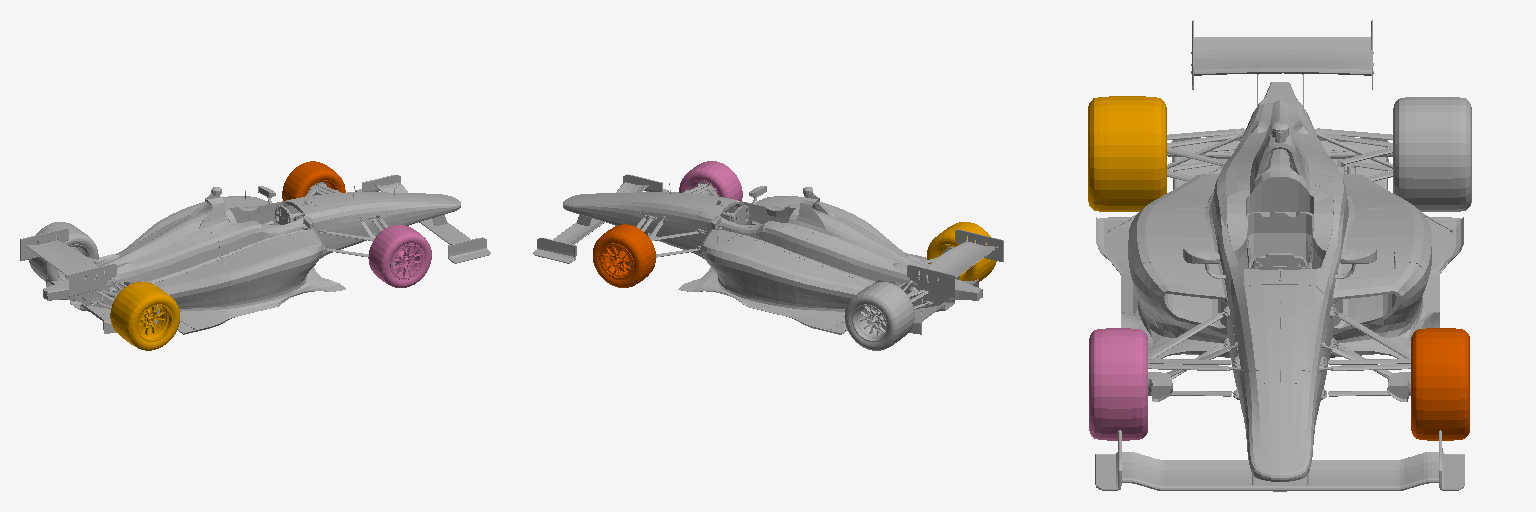
URDF robot description (AV 21):
<?xml version="1.0"?>
<robot xmlns:xacro="http://ros.org/wiki/xacro" name="AV 21">
  <link name="base_link" />

  <link name="base_footprint" />
  <link name="nav_base" />
  <link name="cg" />
  <link name="rear_axle_middle" />
  <link name="rear_axle_middle_ground" />
  <link name="front_axle_middle" />
  <link name="model">
    <visual>
      <geometry>
        <mesh filename="package://racing_lmpc_launch/config/urdf/iac_car/visual/il15_body.stl" scale="0.01 0.01 0.01" />
      </geometry>
    </visual>
  </link>

  <link name="gps_top" />
  <link name="gps_antenna_front" />
  <link name="gps_antenna_rear" />
  <link name="gps_antenna_left" />
  <link name="gps_antenna_right" />

  <link name="gps_bottom" />
  <link name="imu_top" />
  <link name="imu_bottom" />
  <link name="vectornav" />
  <link name="imu_vectornav" />

  <link name="luminar_front" />
  <link name="luminar_left" />
  <link name="luminar_right" />

  <link name="camera_front_left" />
  <link name="camera_front_right" />
  <link name="camera_rear_left" />
  <link name="camera_rear_right" />
  <link name="camera_front_left_center" />
  <link name="camera_front_right_center" />

  <link name="vimba_front_left" />
  <link name="vimba_front_right" />
  <link name="vimba_rear_left" />
  <link name="vimba_rear_right" />
  <link name="vimba_front_left_center" />
  <link name="vimba_front_right_center" />

  <link name="radar_front" />
  <link name="radar_port" />
  <link name="radar_starboard" />
  <link name="radar_rear" />

  <link name="tyre_fl">
    <visual>
      <geometry>
        <mesh filename="package://racing_lmpc_launch/config/urdf/iac_car/visual/il15_tyre_fl.stl" scale="0.01 0.01 0.01" />
      </geometry>
      <origin xyz="0 0 0" rpy="0 0 0" />
    </visual>
  </link>
  <link name="tyre_fr">
    <visual>
      <geometry>
        <mesh filename="package://racing_lmpc_launch/config/urdf/iac_car/visual/il15_tyre_fr.stl" scale="0.01 0.01 0.01" />
      </geometry>
      <origin xyz="0 0 0" rpy="0 0 0" />
    </visual>
  </link>
  <link name="tyre_rl">
    <visual>
      <geometry>
        <mesh filename="package://racing_lmpc_launch/config/urdf/iac_car/visual/il15_tyre_rl.stl" scale="0.01 0.01 0.01" />
      </geometry>
      <origin xyz="0 0 0" rpy="0 0 0" />
    </visual>
  </link>
  <link name="tyre_rr">
    <visual>
      <geometry>
        <mesh filename="package://racing_lmpc_launch/config/urdf/iac_car/visual/il15_tyre_rr.stl" scale="0.01 0.01 0.01" />
      </geometry>
      <origin xyz="0 0 0" rpy="0 0 0" />
    </visual>
  </link>

  <link name="tyre_fl_rotate" />
  <link name="tyre_fr_rotate" />
  <link name="tyre_rl_rotate" />
  <link name="tyre_rr_rotate" />

  <joint name="rear_axle_middle_ground_joint" type="fixed">
    <parent link="base_footprint" />
    <child link="rear_axle_middle_ground" />
    <origin xyz="0.0 0.0 0.0" />
  </joint>

  <joint name="wheel_base" type="fixed">
    <parent link="base_link" />
    <child link="front_axle_middle" />
    <origin xyz="2.9718 0.0 0.0" />
  </joint>

  <joint name="rear_axle_middle_joint" type="fixed">
    <parent link="base_link" />
    <child link="rear_axle_middle" />
    <origin xyz="0 0 0" />
  </joint>

  <joint name="cg_joint" type="fixed">
    <parent link="base_link" />
    <child link="cg" />
    <origin xyz="1.248 0.0 0.077" />
  </joint>

  <joint name="model_joint" type="fixed">
    <parent link="base_link" />
    <child link="model" />
    <origin xyz="1.725 0.0 -0.31" rpy="1.5708 0.0 1.5708" />
  </joint>

  <joint name="nav_base_joint" type="fixed">
    <parent link="cg" />
    <child link="nav_base" />
    <origin xyz="0 0 0" />
  </joint>

  <joint name="base_footprint_joint" type="fixed">
    <parent link="base_link" />
    <child link="base_footprint" />
    <origin xyz="0 0 -0.09525" />
  </joint>

  <joint name="gps_top_joint" type="fixed">
    <parent link="base_link" />
    <child link="gps_top" />
    <origin xyz="1.605 0.075 -0.074" />
  </joint>

  <joint name="gps_antenna_front_joint" type="fixed">
    <parent link="gps_bottom" />
    <child link="gps_antenna_front" />
    <origin xyz="1.53982 0.07525 0.47876" />
  </joint>

  <joint name="gps_antenna_rear_joint" type="fixed">
    <parent link="gps_bottom" />
    <child link="gps_antenna_rear" />
    <origin xyz="-0.36559 0.07525 1.02668" />
  </joint>

  <joint name="gps_antenna_left_joint" type="fixed">
    <parent link="gps_top" />
    <child link="gps_antenna_left" />
    <origin xyz="0.41919 0.42225 0.45940" />
  </joint>

  <joint name="gps_antenna_right_joint" type="fixed">
    <parent link="gps_top" />
    <child link="gps_antenna_right" />
    <origin xyz="0.41919 -0.57265 0.45940" />
  </joint>


  <joint name="vectornav_joint" type="fixed">
    <parent link="base_link" />
    <child link="vectornav" />
    <origin xyz="1.765 0.0 0.035" />
  </joint>
  
  <joint name="imu_vectornav_joint" type="fixed">
    <parent link="base_link" />
    <child link="imu_vectornav" />
    <origin xyz="1.765 0.0 0.035" />
  </joint>

  <joint name="gps_bottom_joint" type="fixed">
    <parent link="base_link" />
    <child link="gps_bottom" />
    <origin xyz="1.605 -0.075 -0.074" />
  </joint>

  <joint name="imu_bottom_joint" type="fixed">
    <parent link="base_link" />
    <child link="imu_bottom" />
    <origin xyz="1.605 -0.075 -0.074" />
  </joint>

  <joint name="imu_top_joint" type="fixed">
    <parent link="base_link" />
    <child link="imu_top" />
    <origin xyz="1.605 0.075 -0.074" />
  </joint>

  <joint name="luminar_front_joint" type="fixed">
    <parent link="base_link" />
    <child link="luminar_front" />
    <!-- y pointing up-->
    <!-- <origin xyz="2.242 0 0.448" rpy="1.57079633 0.0 1.57079633"/> -->
    <!-- y pointing down -->
    <!-- <origin xyz="2.242 0 0.448" rpy="-1.57079633 0.0 -1.57079633"/> -->
    <!-- original x-forward convention -->
    <origin xyz="2.242 0 0.448" rpy="0 0.0174533 0" />
  </joint>

  <joint name="luminar_left_joint" type="fixed">
    <parent link="base_link" />
    <child link="luminar_left" />
    <!-- y pointing up-->
    <!-- <origin xyz="1.549 0.267 0.543" rpy="1.57079633 0.0 -2.61801928" /> -->
    <!-- y pointing down-->
    <!-- <origin xyz="1.549 0.267 0.543" rpy="-1.57079633 0.0 .523573371" /> -->
    <!-- original x-forward convention -->
    <origin xyz="1.549 0.267 0.543" rpy="0 0 2.0943951024" />
  </joint>

  <joint name="luminar_right_joint" type="fixed">
    <parent link="base_link" />
    <child link="luminar_right" />
    <!-- y pointing up-->
    <!-- <origin xyz="1.549 -0.267 0.543" rpy="1.57079633 0.0 -0.52357337" /> -->
    <!-- y pointing down-->
    <!-- <origin xyz="1.549 -0.267 0.543" rpy="-1.57079633 0.0 2.61801928" /> -->
    <!-- original x-forward convention -->
    <origin xyz="1.549 -0.267 0.543" rpy="-0.00872665 -0.0174533 -2.0943951024" />
  </joint>

  <joint name="camera_front_left_joint" type="fixed">
    <parent link="base_link" />
    <child link="camera_front_left" />
    <origin xyz="2.184 0.171 0.422" rpy="0 0 0.9599310886" />
  </joint>

  <joint name="camera_front_right_joint" type="fixed">
    <parent link="base_link" />
    <child link="camera_front_right" />
    <origin xyz="2.184 -0.171 0.422" rpy="0 0 -0.9599310886" />
  </joint>

  <joint name="camera_rear_left_joint" type="fixed">
    <parent link="base_link" />
    <child link="camera_rear_left" />
    <origin xyz="1.473 0.140 0.543" rpy="0 0 2.2689280276" />
  </joint>

  <joint name="camera_rear_right_joint" type="fixed">
    <parent link="base_link" />
    <child link="camera_rear_right" />
    <origin xyz="1.473 -0.140 0.543" rpy="0 0 -2.2689280276" />
  </joint>

  <joint name="camera_front_left_center_joint" type="fixed">
    <parent link="base_link" />
    <child link="camera_front_left_center" />
    <origin xyz="2.235 0.121 0.422" />
  </joint>

  <joint name="camera_front_right_center_joint" type="fixed">
    <parent link="base_link" />
    <child link="camera_front_right_center" />
    <origin xyz="2.235 -0.121 0.422" />
  </joint>

  <joint name="vimba_front_left_joint" type="fixed">
    <parent link="camera_front_left" />
    <child link="vimba_front_left" />
    <origin xyz="0 0 0" rpy="-1.5708 0 -1.5708" />
  </joint>

  <joint name="vimba_front_right_joint" type="fixed">
    <parent link="camera_front_right" />
    <child link="vimba_front_right" />
    <origin xyz="0 0 0" rpy="-1.5708 0 -1.5708" />
  </joint>

  <joint name="vimba_front_left_center_joint" type="fixed">
    <parent link="camera_front_left_center" />
    <child link="vimba_front_left_center" />
    <origin xyz="0 0 0" rpy="-1.5708 0 -1.5708" />
  </joint>

  <joint name="vimba_front_right_center_joint" type="fixed">
    <parent link="camera_front_right_center" />
    <child link="vimba_front_right_center" />
    <origin xyz="0 0 0" rpy="-1.5708 0 -1.5708" />
  </joint>

  <joint name="vimba_rear_left_joint" type="fixed">
    <parent link="camera_rear_left" />
    <child link="vimba_rear_left" />
    <origin xyz="0 0 0" rpy="-1.5708 0 -1.5708" />
  </joint>

  <joint name="vimba_rear_right_joint" type="fixed">
    <parent link="camera_rear_right" />
    <child link="vimba_rear_right" />
    <origin xyz="0 0 0" rpy="-1.5708 0 -1.5708" />
  </joint>

  <joint name="radar_front_joint" type="fixed">
    <parent link="base_link" />
    <child link="radar_front" />
    <origin xyz="1.784 0.0 0.594" />
  </joint>

  <joint name="radar_port_joint" type="fixed">
    <parent link="base_link" />
    <child link="radar_port" />
    <origin xyz="2.032 0.213 0.406" rpy="0 0 1.5707963267949" />
  </joint>

  <joint name="radar_starboard_joint" type="fixed">
    <parent link="base_link" />
    <child link="radar_starboard" />
    <origin xyz="2.032 -0.213 0.406" rpy="0 0 -1.5707963267949" />
  </joint>

  <joint name="radar_rear_joint" type="fixed">
    <parent link="base_link" />
    <child link="radar_rear" />
    <origin xyz="-0.768 0.0 0.107" rpy="0 0 3.14159265358979" />
  </joint>

  <joint name="fl_tyre_joint" type="revolute">
    <parent link="front_axle_middle" />
    <child link="tyre_fl_rotate" />
    <origin xyz="0.0 0.819 0.0" rpy="0 0 1.5708" />
    <axis xyz="0 0 1"/>
    <limit lower="-0.523599" upper="0.523599" effort="1000" velocity="1"/>
  </joint>

  <joint name="fr_tyre_joint" type="revolute">
    <parent link="front_axle_middle" />
    <child link="tyre_fr_rotate" />
    <origin xyz="0.0 -0.819 0.0" rpy="0 0 1.5708" />
    <axis xyz="0 0 1"/>
    <limit lower="-0.523599" upper="0.523599" effort="1000" velocity="1"/>
  </joint>

  <joint name="rl_tyre_joint" type="fixed">
    <parent link="rear_axle_middle" />
    <child link="tyre_rl_rotate" />
    <origin xyz="0.0 0.762 0.0" rpy="0 0 1.5708" />
  </joint>

  <joint name="rr_tyre_joint" type="fixed">
    <parent link="rear_axle_middle" />
    <child link="tyre_rr_rotate" />
    <origin xyz="0.0 -0.762 0.0" rpy="0 0 1.5708" />
  </joint>

  <joint name="fl_tyre_rotate_joint" type="revolute">
    <parent link="tyre_fl_rotate" />
    <child link="tyre_fl" />
    <origin xyz="0.0 0.0 0.0" rpy="0 0 0" />
    <axis xyz="1 0 0"/>
    <limit lower="-3.15" upper="3.15" effort="1000" velocity="100"/>
  </joint>

  <joint name="fr_tyre_rotate_joint" type="revolute">
    <parent link="tyre_fr_rotate" />
    <child link="tyre_fr" />
    <origin xyz="0.0 0.0 0.0" rpy="0 0 0" />
    <axis xyz="1 0 0"/>
    <limit lower="-3.15" upper="3.15" effort="1000" velocity="100"/>
  </joint>

  <joint name="rl_tyre_rotate_joint" type="revolute">
    <parent link="tyre_rl_rotate" />
    <child link="tyre_rl" />
    <origin xyz="0.0 0.0 0.0" rpy="0 0 0" />
    <axis xyz="1 0 0"/>
    <limit lower="-3.15" upper="3.15" effort="1000" velocity="100"/>
  </joint>

  <joint name="rr_tyre_rotate_joint" type="revolute">
    <parent link="tyre_rr_rotate" />
    <child link="tyre_rr" />
    <origin xyz="0.0 0.0 0.0" rpy="0 0 0" />
    <axis xyz="1 0 0"/>
    <limit lower="-3.15" upper="3.15" effort="1000" velocity="100"/>
  </joint>
</robot>
  

--- Render facts (derived) ---
Views: 3 orthographic renders of the robot side by side, from view 1: azimuth 30°, elevation 25°; view 2: azimuth 150°, elevation 25°; view 3: azimuth 270°, elevation 25°.
Model AV 21 with 45 links and 44 joints (6 revolute, 38 fixed), rooted at base_link, posed every joint at zero.
Visible links, largest first — view 1: model, tyre_rr, tyre_fr, tyre_fl, tyre_rl; view 2: model, tyre_rl, tyre_fl, tyre_fr, tyre_rr; view 3: model, tyre_rr, tyre_rl, tyre_fl, tyre_fr.
Boxes of the visible links, x1,y1,x2,y2 form: model: (20, 175, 490, 334); tyre_rr: (110, 282, 179, 350); tyre_fr: (368, 225, 431, 287); tyre_fl: (282, 161, 345, 200); tyre_rl: (29, 222, 98, 281); model: (533, 174, 1003, 334); tyre_rl: (844, 282, 914, 350); tyre_fl: (593, 224, 655, 287); tyre_fr: (679, 161, 742, 200); tyre_rr: (927, 222, 996, 281); model: (1095, 20, 1464, 491); tyre_rr: (1088, 96, 1166, 211); tyre_rl: (1393, 97, 1471, 211); tyre_fl: (1411, 328, 1469, 440); tyre_fr: (1089, 328, 1147, 440).
Bounding box of the posed robot: 4.87 × 2.1 × 1.12 m (x, y, z).
Meshes: 5 distinct files referenced, 5 mesh visuals loaded (5 binary STL).